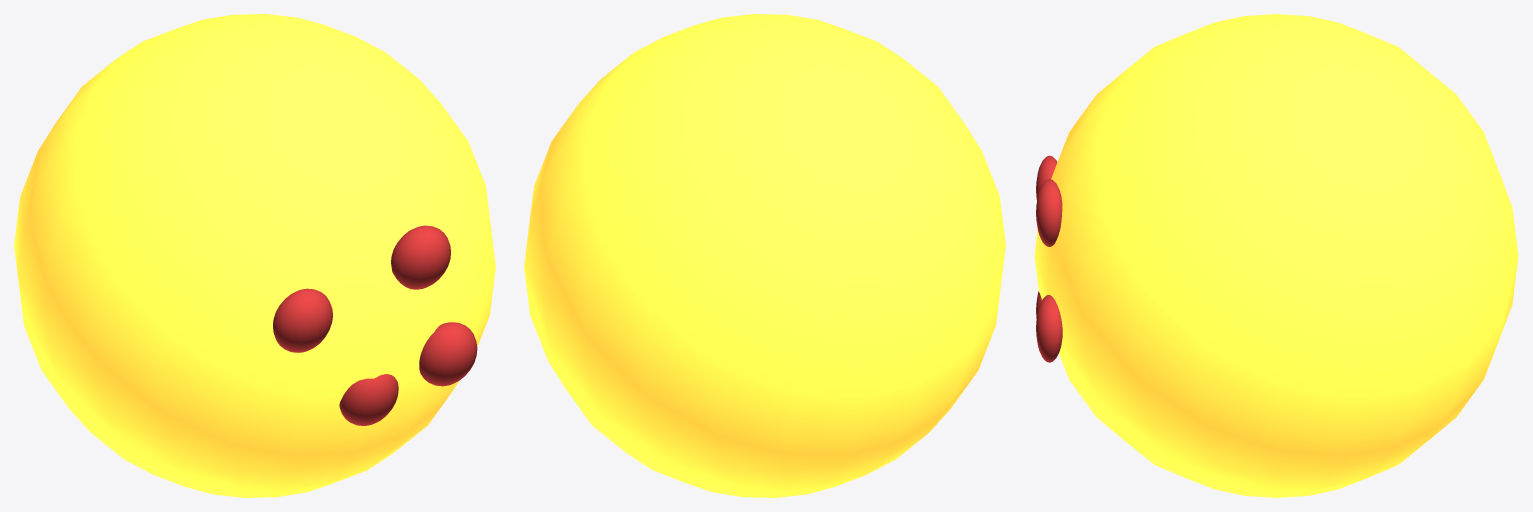
File: dragon_ball.glb
The picture shows the model from 3 angles, left to right: view 1: azimuth 30°, elevation 25°; view 2: azimuth 150°, elevation 25°; view 3: azimuth 270°, elevation 25°; orthographic projection.
Bounding box in the file's own units: 0.64 × 0.64 × 0.64.
